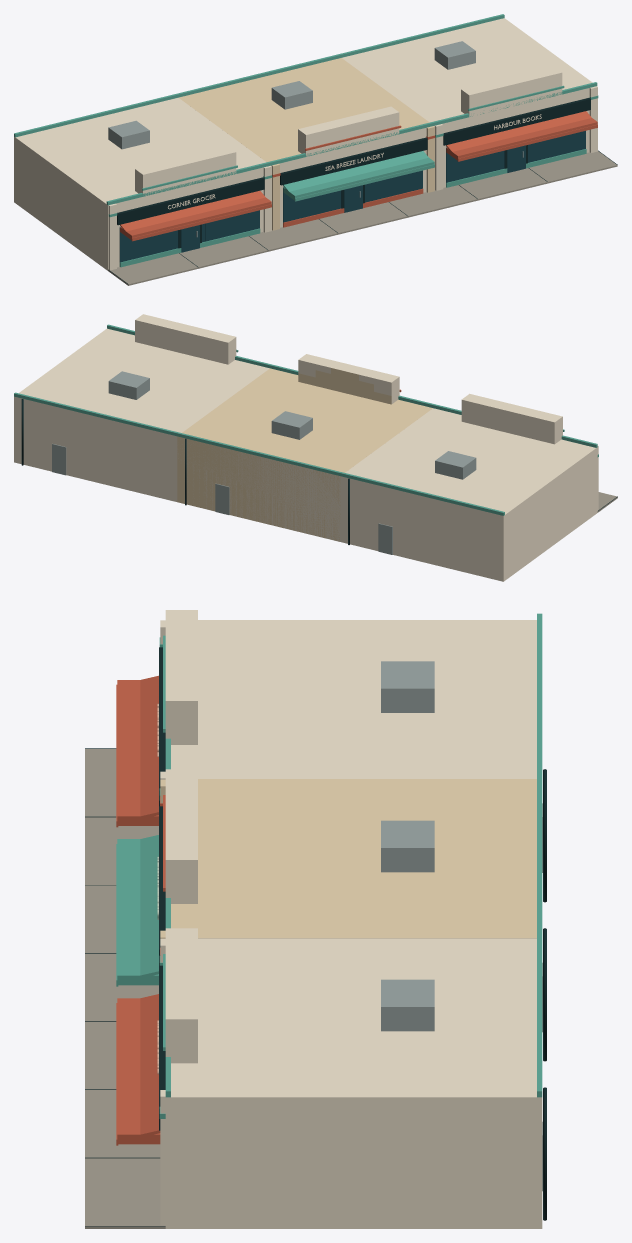
Rendered from oc_shop_row_01.glb.
3 views of the same model, one above another, from view 1: azimuth 30°, elevation 25°; view 2: azimuth 150°, elevation 25°; view 3: azimuth 270°, elevation 25° (orthographic). The views are drawn at different scales.
Parts seen in each view (by area): view 1: LOD1_OC_Stucco_Ivory, LOD2_OC_Stucco_Ivory, LOD1_OC_Stucco_Sand, LOD1_OC_Concrete, LOD1_OC_Deco_Mint, LOD1_OC_Glazing, LOD1_OC_Charcoal, LOD1_OC_Coral, LOD1_OC_Brushed_Metal, LOD2_OC_Coral, LOD2_OC_Deco_Mint, LOD2_OC_Glazing; view 2: LOD1_OC_Stucco_Ivory, LOD2_OC_Stucco_Ivory, LOD1_OC_Stucco_Sand, LOD1_OC_Brushed_Metal, LOD1_OC_Deco_Mint, LOD1_OC_Charcoal; view 3: LOD1_OC_Stucco_Ivory, LOD2_OC_Stucco_Ivory, LOD1_OC_Stucco_Sand, LOD1_OC_Concrete, LOD1_OC_Brushed_Metal, LOD2_OC_Coral, LOD1_OC_Deco_Mint, LOD1_OC_Coral, LOD1_OC_Charcoal, LOD2_OC_Deco_Mint.
Boxes of the visible parts, left/top/right/bottom form: LOD1_OC_Stucco_Ivory: left=14, top=18, right=597, bottom=270; LOD2_OC_Stucco_Ivory: left=16, top=19, right=589, bottom=265; LOD1_OC_Stucco_Sand: left=179, top=58, right=434, bottom=230; LOD1_OC_Concrete: left=108, top=151, right=617, bottom=285; LOD1_OC_Deco_Mint: left=14, top=14, right=598, bottom=267; LOD1_OC_Glazing: left=119, top=131, right=585, bottom=262; LOD1_OC_Charcoal: left=108, top=98, right=617, bottom=284; LOD1_OC_Coral: left=120, top=111, right=597, bottom=241; LOD1_OC_Brushed_Metal: left=108, top=41, right=523, bottom=237; LOD2_OC_Coral: left=120, top=118, right=597, bottom=239; LOD2_OC_Deco_Mint: left=283, top=157, right=434, bottom=200; LOD2_OC_Glazing: left=175, top=144, right=531, bottom=248; LOD1_OC_Stucco_Ivory: left=14, top=322, right=598, bottom=581; LOD2_OC_Stucco_Ivory: left=14, top=314, right=591, bottom=581; LOD1_OC_Stucco_Sand: left=177, top=368, right=432, bottom=541; LOD1_OC_Brushed_Metal: left=52, top=371, right=476, bottom=554; LOD1_OC_Deco_Mint: left=14, top=324, right=598, bottom=515; LOD1_OC_Charcoal: left=21, top=399, right=617, bottom=544; LOD1_OC_Stucco_Ivory: left=157, top=620, right=542, bottom=1228; LOD2_OC_Stucco_Ivory: left=165, top=610, right=536, bottom=1096; LOD1_OC_Stucco_Sand: left=160, top=779, right=536, bottom=938; LOD1_OC_Concrete: left=85, top=749, right=165, bottom=1228; LOD1_OC_Brushed_Metal: left=381, top=661, right=542, bottom=1191; LOD2_OC_Coral: left=117, top=680, right=160, bottom=1144; LOD1_OC_Deco_Mint: left=116, top=613, right=542, bottom=1118; LOD1_OC_Coral: left=116, top=675, right=165, bottom=1145; LOD1_OC_Charcoal: left=85, top=647, right=546, bottom=1226; LOD2_OC_Deco_Mint: left=117, top=839, right=158, bottom=985.
Bounding box in the file's own units: 42.04 × 7.2 × 17.17.
